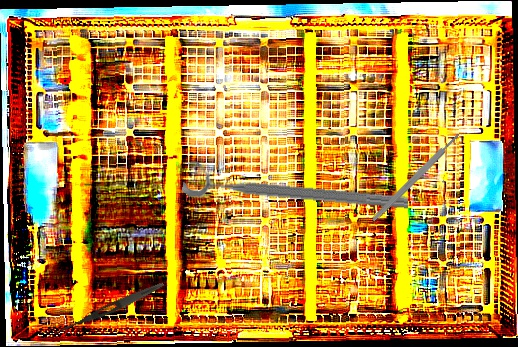Dressing Forceps: (53, 279, 166, 339)
Fixation Ring: (181, 157, 411, 216)
Scalpel Handle: (370, 131, 462, 224)
